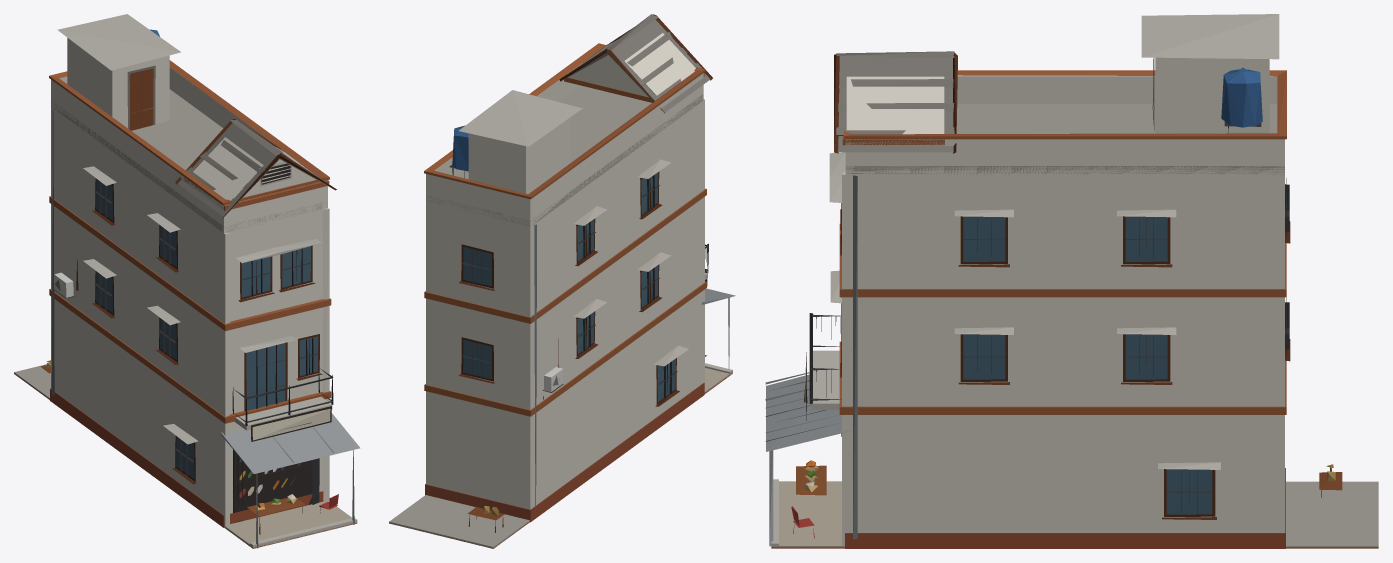
File: bay2_one.glb
3 views of the same model, side by side, from view 1: azimuth 30°, elevation 25°; view 2: azimuth 150°, elevation 25°; view 3: azimuth 270°, elevation 25° (orthographic). The views are drawn at different scales.
Parts seen in each view (by area): view 1: body, windows; view 2: body, windows; view 3: body, windows.
Boxes of the visible parts, x1=… form: body: x1=14, y1=14, x2=360, y2=548; windows: x1=96, y1=163, x2=318, y2=513; body: x1=389, y1=14, x2=735, y2=548; windows: x1=463, y1=172, x2=675, y2=401; body: x1=765, y1=14, x2=1378, y2=548; windows: x1=963, y1=185, x2=1286, y2=514.
Size of the model in its own units: 4.84 by 13.65 by 16.06.
